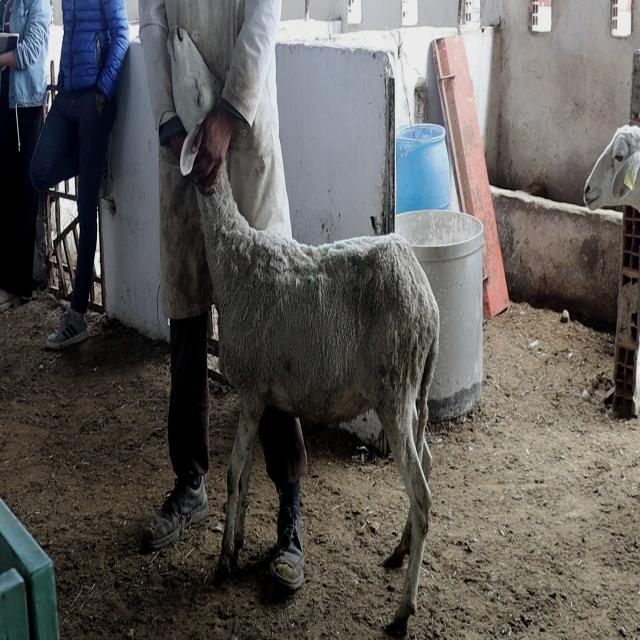Score_1: (196, 161, 440, 633)
